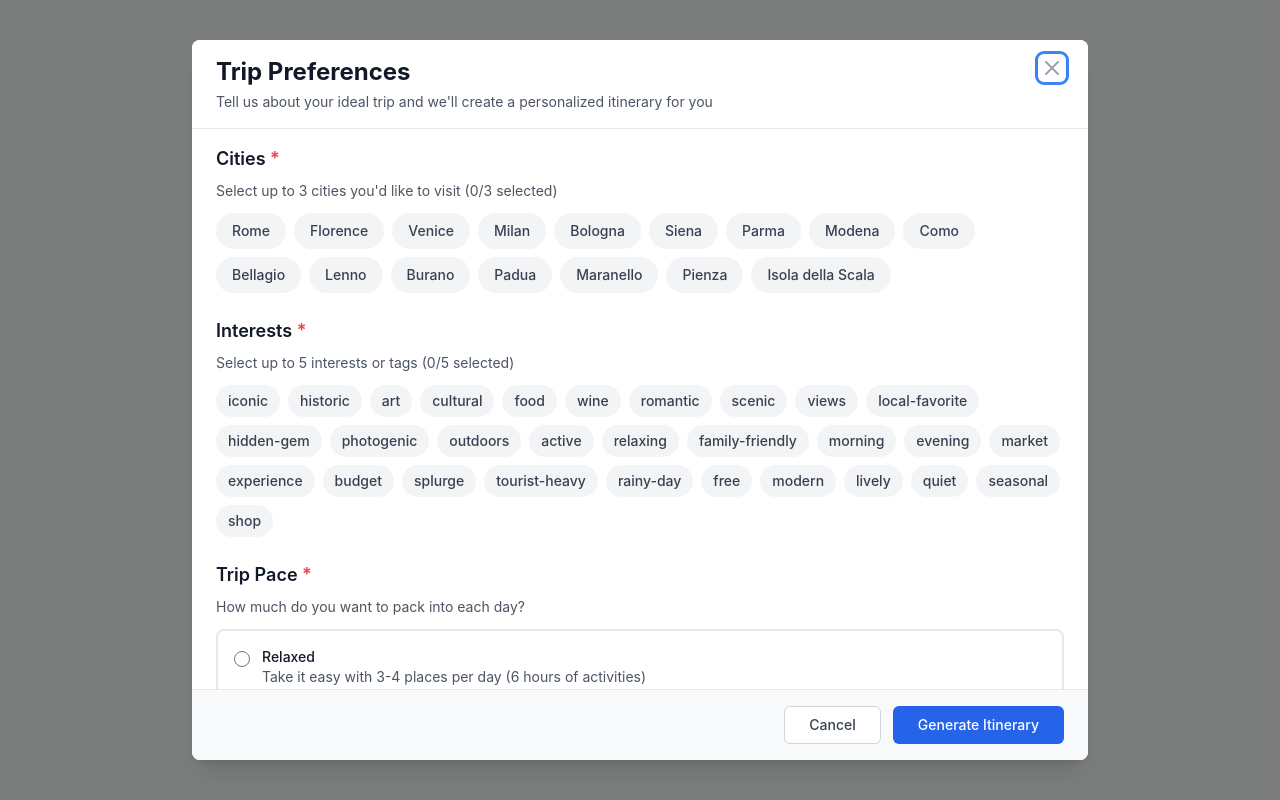
Test case: PreferencesModal › City Selection › should show validation error when no cities selected
The width and height of the screenshot is (1280, 800).
Click the button "Generate Itinerary" at (978, 725), box [893,706,1064,744]
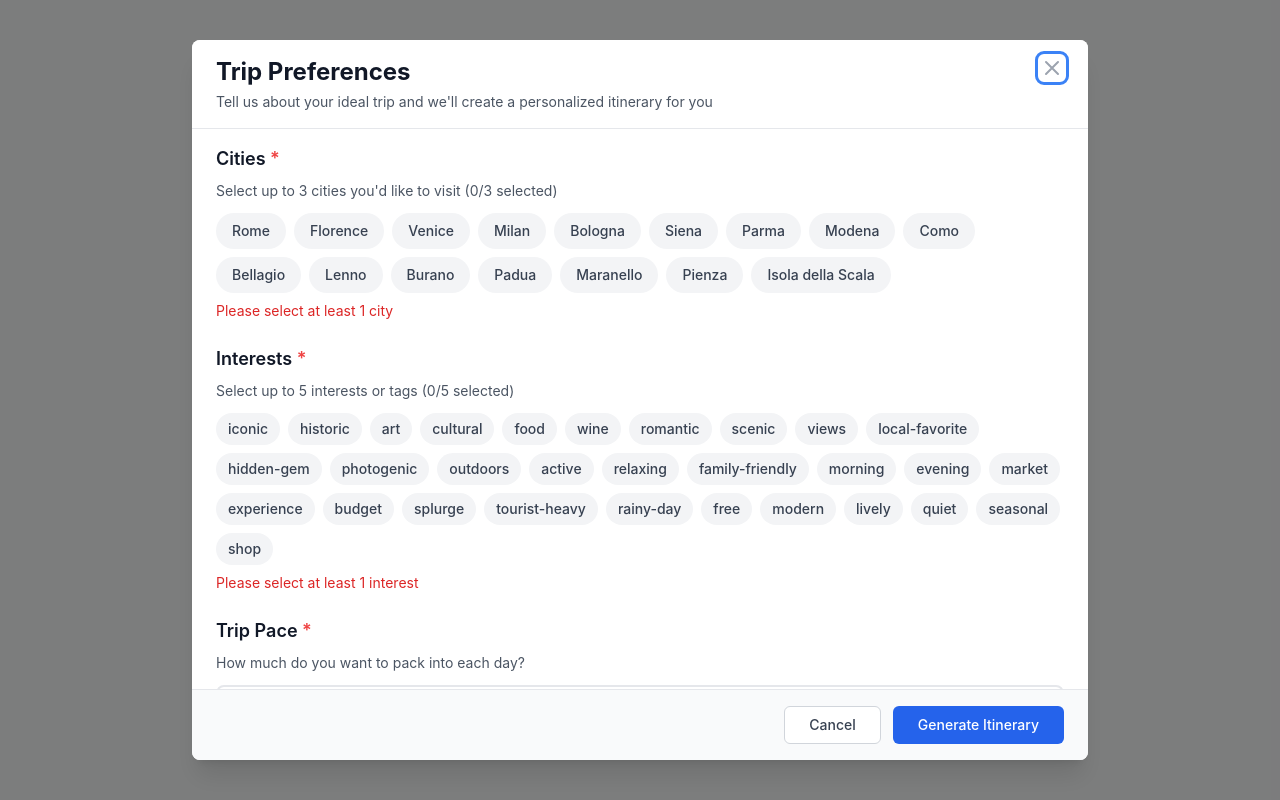
Expected: the text "Please select at least 1 city" is shown, [216,302,393,319]
